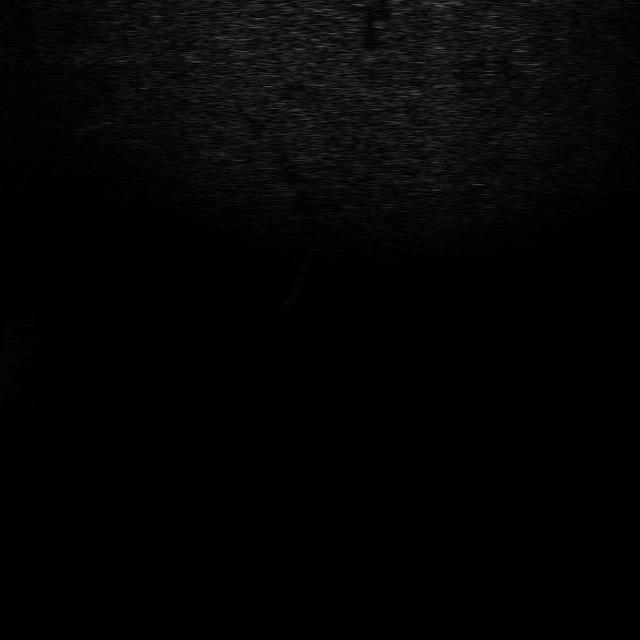human body: (270, 260, 314, 319)
